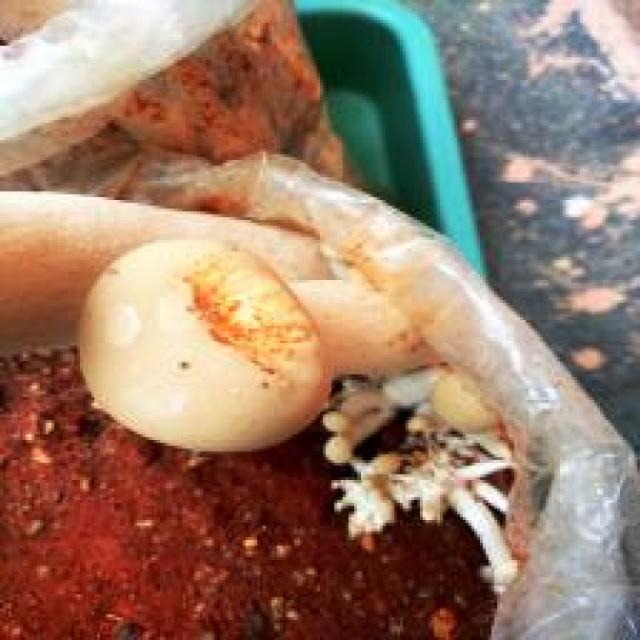death-cap: (75, 234, 332, 452)
